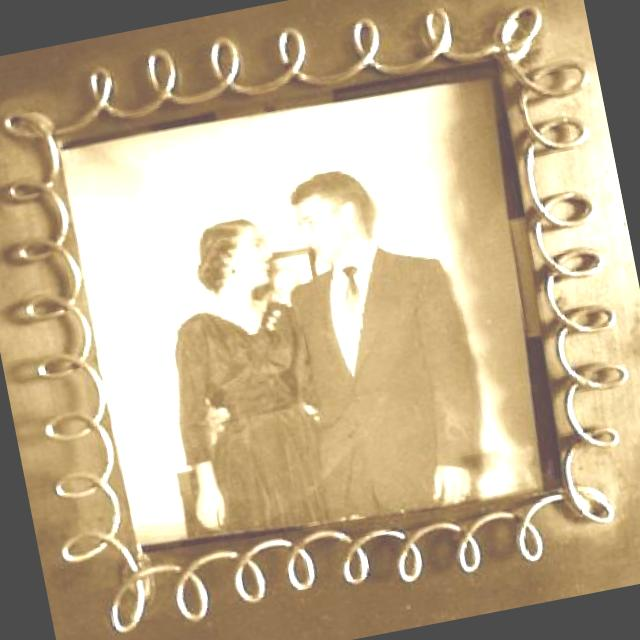Person: (163, 152, 500, 550), (130, 212, 335, 550)
